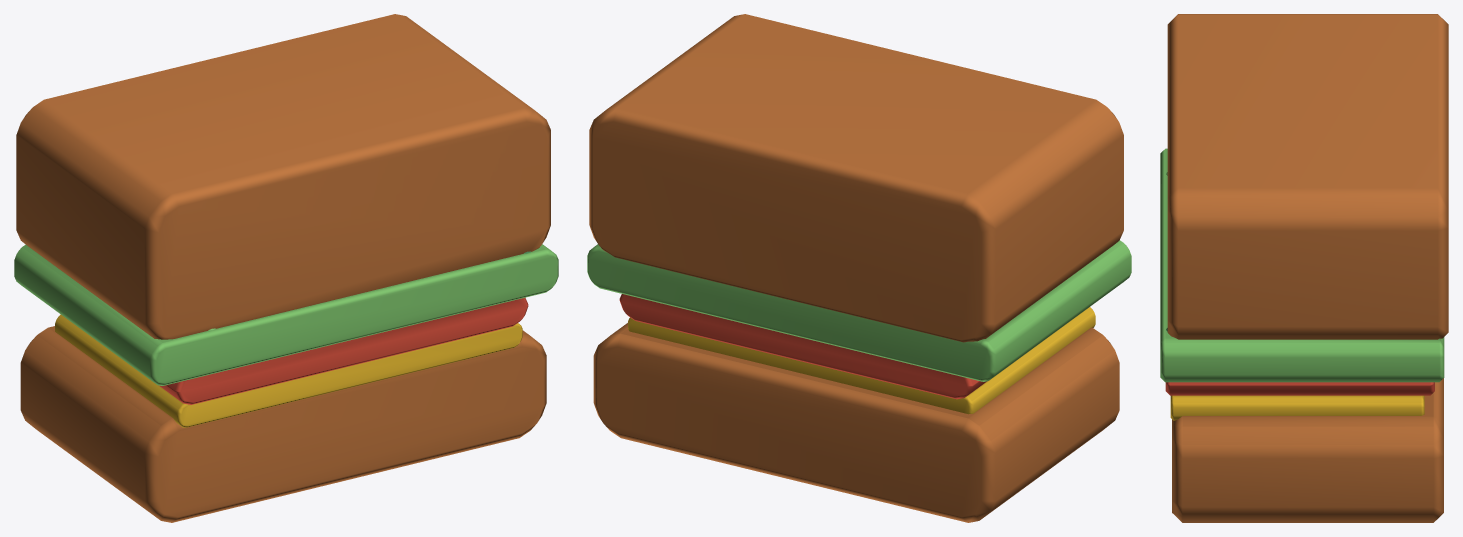
File: snack_sandwich.glb
The picture shows the model from 3 angles, left to right: view 1: azimuth 30°, elevation 25°; view 2: azimuth 150°, elevation 25°; view 3: azimuth 270°, elevation 25°; orthographic projection.
Parts seen in each view (by area): view 1: Bottom toast; view 2: Bottom toast; view 3: Bottom toast.
Boxes of the visible parts, box(x1,y1,x2,y2) form: Bottom toast: box(14, 14, 558, 522); Bottom toast: box(587, 14, 1131, 522); Bottom toast: box(1160, 14, 1448, 522).
Bounding box in the file's own units: 1.6 × 1.24 × 0.964.
